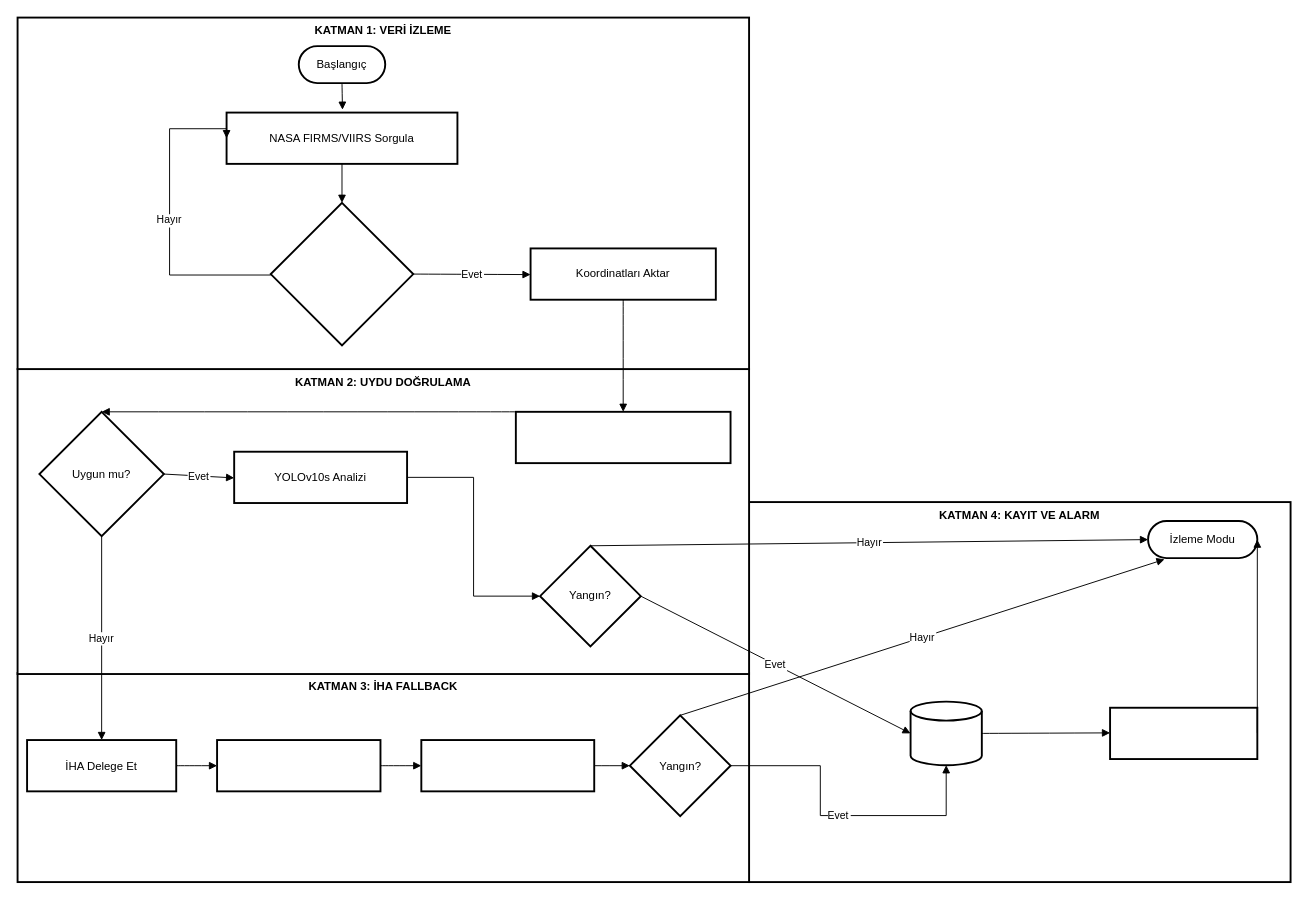
This 1307x899 diagram has some shape labels left out. Here are the shapes that lost their labels. From the top down, the centre of each, then its label:
point (341, 273): Yeni Hotspot?
point (622, 437): Sentinel-2 Görüntü İste
point (945, 733): DB Kayıt
point (1183, 733): Alarm Tetikle
point (298, 765): İHA Görevlendir
point (507, 765): YOLOv12s Analizi
